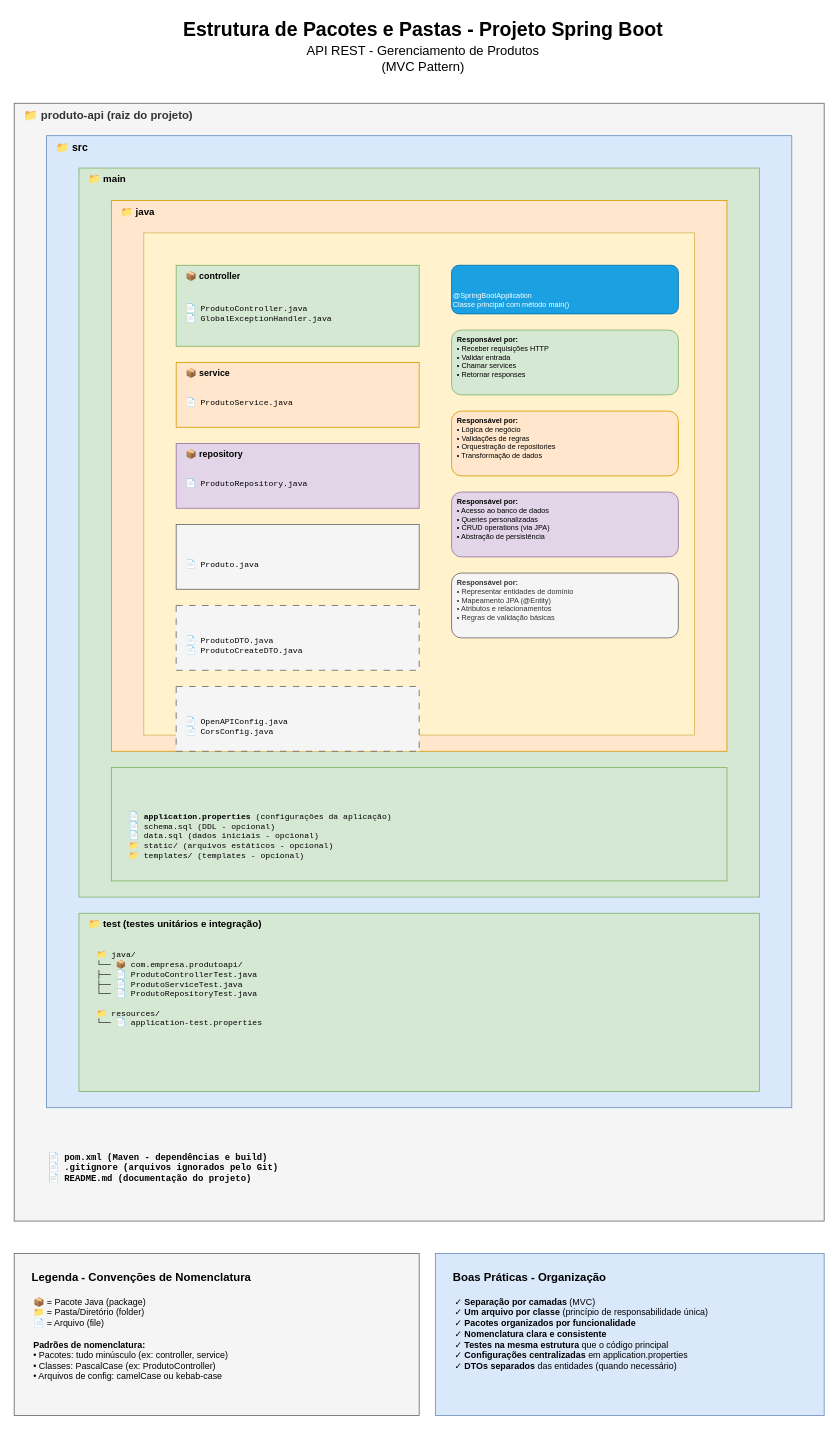
This 838x1430 diagram has some shape labels left out. Each missing label, with the box of its shape:
📁 resources: (111, 767, 727, 881)
📄 ProdutoApiApplication.java: (451, 264, 678, 314)
📦 com.empresa.produtoapi (pacote raiz): (143, 232, 695, 735)
📦 config (opcional): (175, 686, 419, 751)
📦 dto (opcional): (175, 605, 419, 670)
📦 model: (175, 524, 419, 589)
